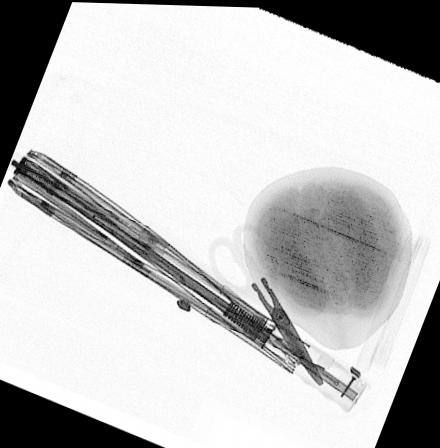Scissors: (202, 220, 324, 384)
